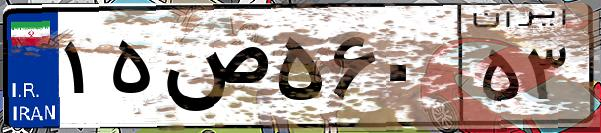0: (385, 28, 445, 110)
1: (57, 26, 110, 100)
3: (525, 38, 570, 115)
5: (270, 28, 330, 110), (475, 38, 525, 113), (110, 28, 158, 98)
6: (330, 28, 385, 110)
ص: (158, 20, 270, 120)
